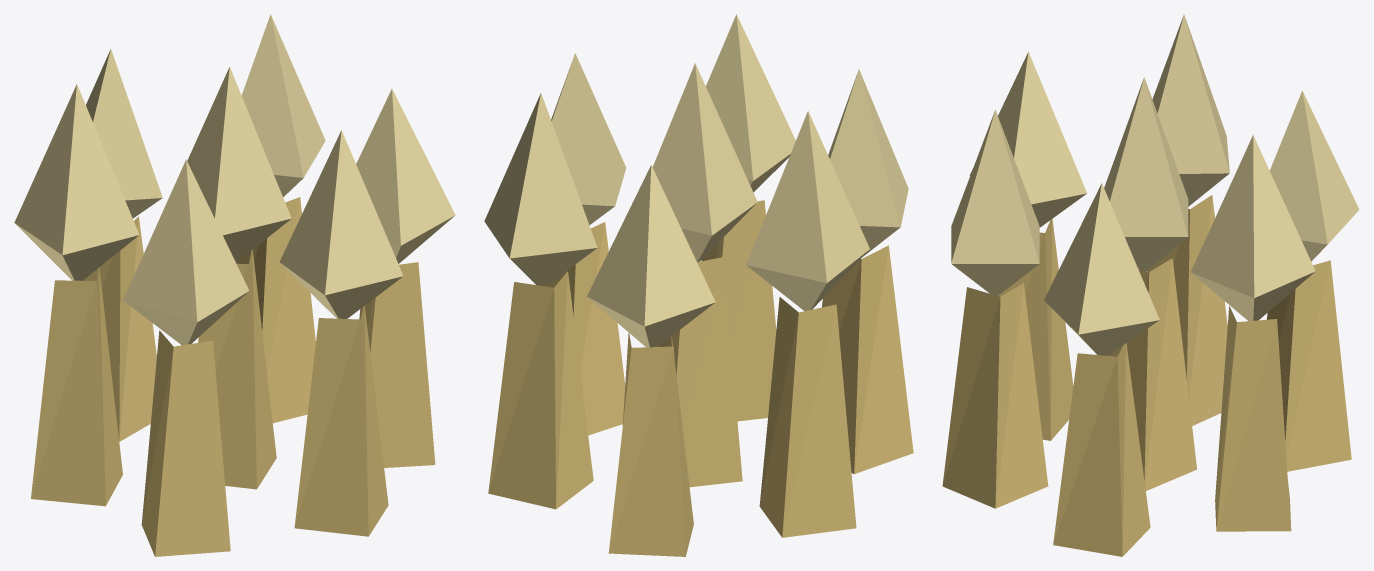
File: wheat.glb
The picture shows the model from 3 angles, left to right: view 1: azimuth 30°, elevation 25°; view 2: azimuth 150°, elevation 25°; view 3: azimuth 270°, elevation 25°; orthographic projection. The views are drawn at different scales.
Visible parts, largest first — view 1: crop; view 2: crop; view 3: crop.
Part boxes in pixels (x1,y1,x2,y2): crop: [14, 14, 455, 556]; crop: [484, 14, 913, 556]; crop: [942, 14, 1359, 556].
Bounding box in the file's own units: 0.868 × 0.9 × 0.8663.
